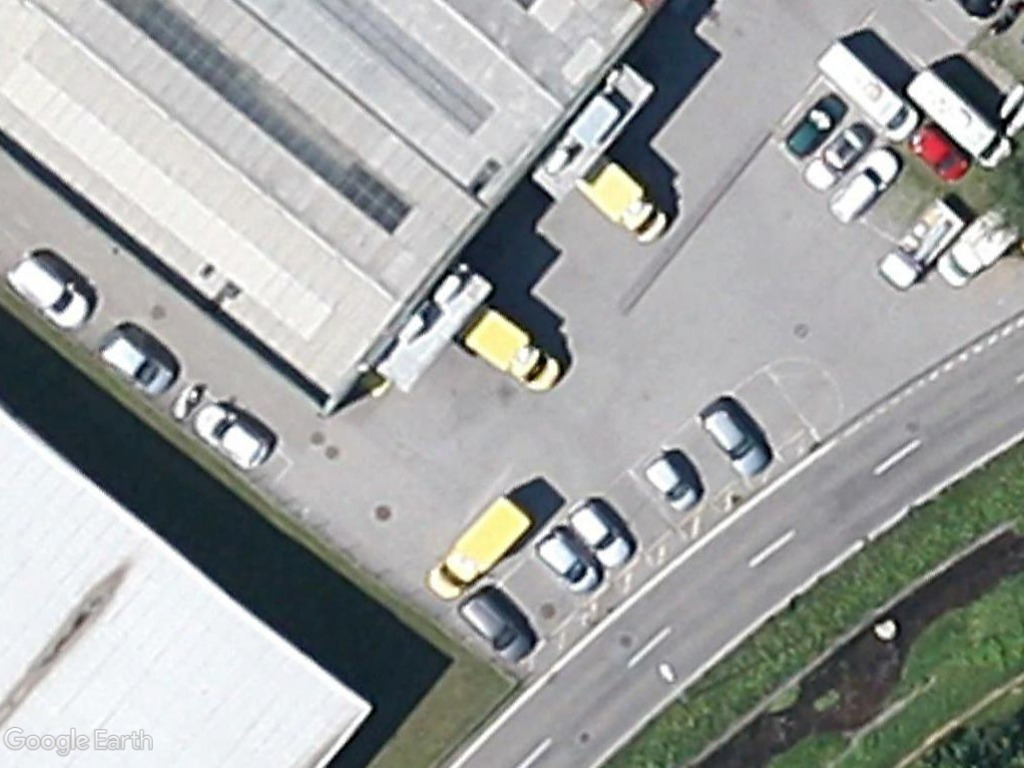car: (0, 257, 94, 337), (187, 401, 278, 475), (92, 327, 181, 402), (694, 402, 774, 482), (825, 144, 902, 226), (453, 592, 541, 663), (561, 497, 638, 572), (530, 526, 607, 597), (797, 118, 870, 191), (778, 91, 845, 162), (641, 455, 703, 515)
truck: (423, 485, 538, 602), (462, 310, 568, 401), (579, 156, 672, 250)
van: (897, 65, 1013, 169), (815, 42, 919, 144)
